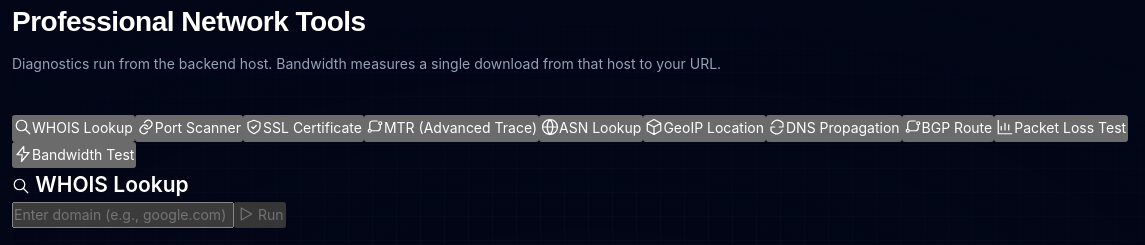
prevents duplicate runs and aborts on navigation
The image size is (1145, 245).
Type "example.com" into the field with placeholder "Enter domain (e.g., google.com)". click: {"x": 123, "y": 215}
box: top-left (12, 202), bottom-right (234, 228)
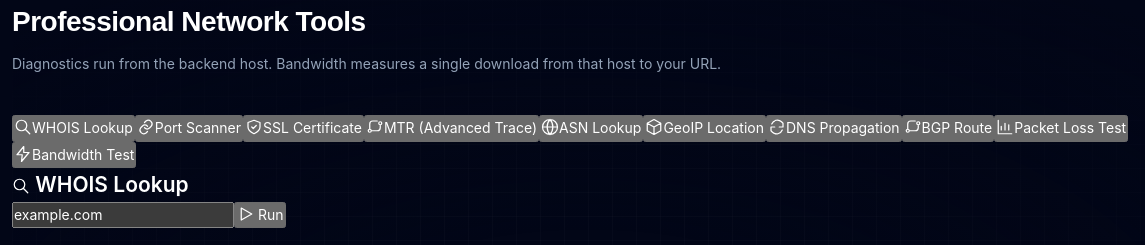
Click the button "Run". click: {"x": 260, "y": 215}
box: top-left (234, 202), bottom-right (286, 228)
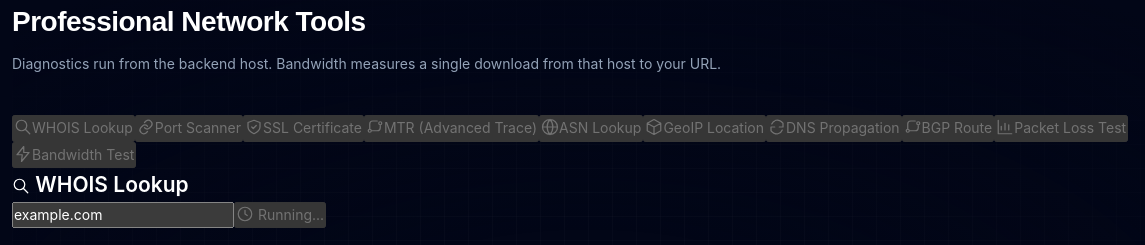
Expected: the button "Port Scanner" is disabled, top-left (135, 115), bottom-right (243, 142)
